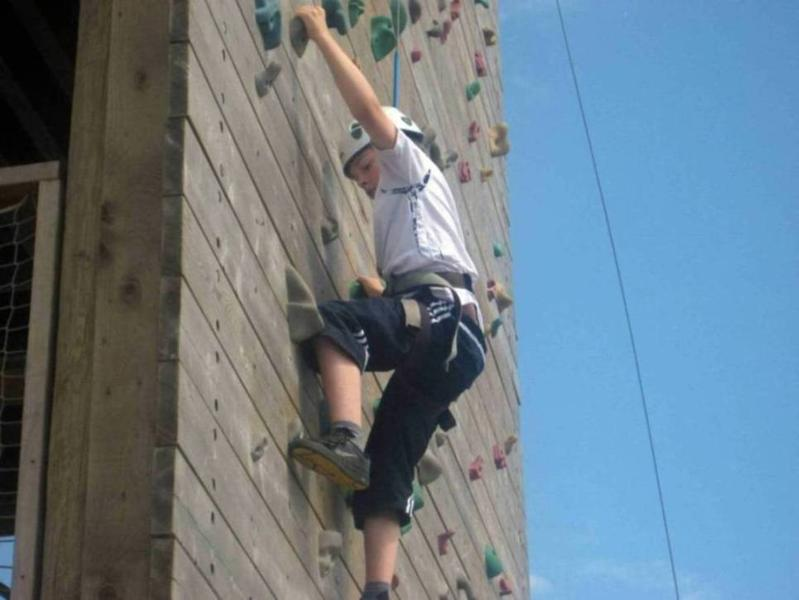person: (290, 5, 485, 598)
